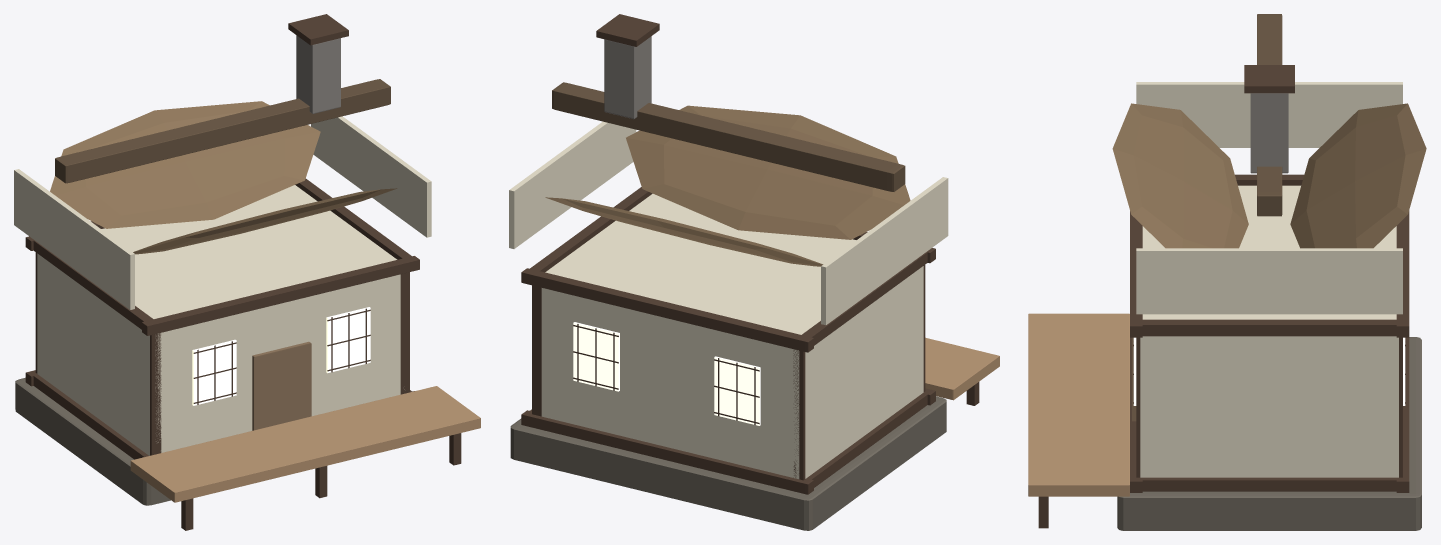
The model's file is kominka.glb.
3 renders of one model, left to right at view 1: azimuth 30°, elevation 25°; view 2: azimuth 150°, elevation 25°; view 3: azimuth 270°, elevation 25°, orthographic. The views are drawn at different scales.
Parts seen in each view (by area): view 1: Kominka; view 2: Kominka; view 3: Kominka.
Part boxes in pixels (left/top/right/bottom): Kominka: left=14, top=14, right=480, bottom=530; Kominka: left=509, top=14, right=999, bottom=530; Kominka: left=1028, top=14, right=1426, bottom=530.
Size of the model in its own units: 3.4 by 3.73 by 3.14.
